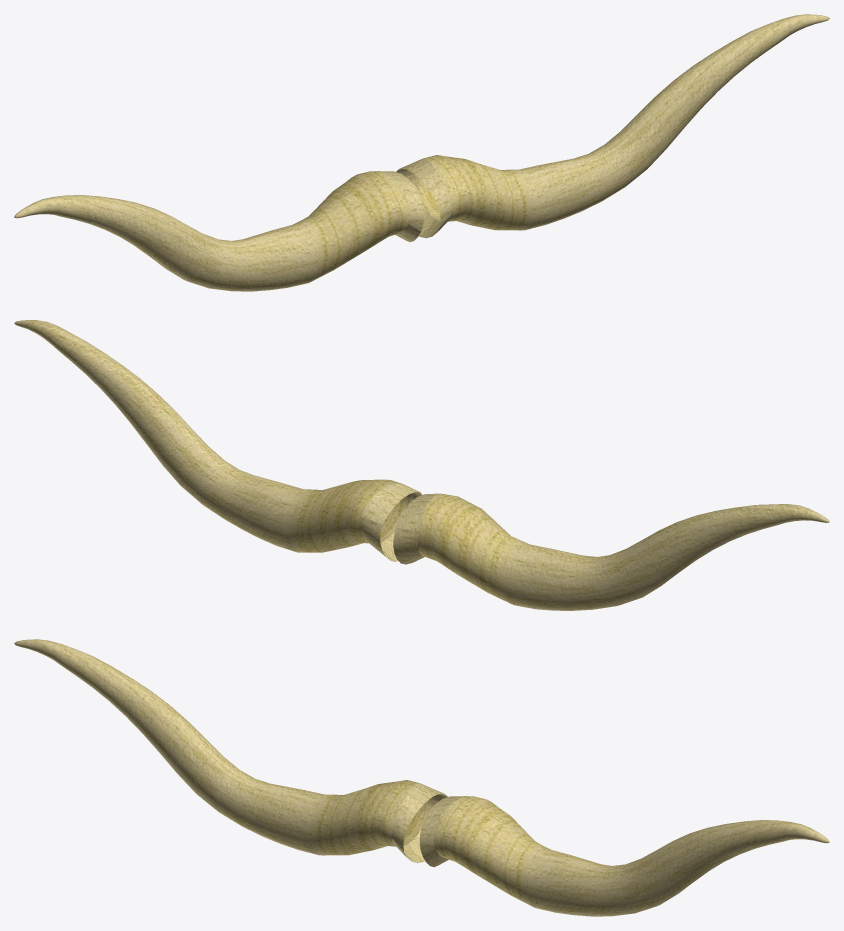
The model's file is longhorns-lite.glb.
3 views of the same model, one above another, from view 1: azimuth 30°, elevation 25°; view 2: azimuth 150°, elevation 25°; view 3: azimuth 330°, elevation 25° (orthographic).
Visible parts, largest first — view 1: longhorns; view 2: longhorns; view 3: longhorns.
Part boxes in pixels (<box>): longhorns: <box>14,14,829,291</box>; longhorns: <box>14,320,829,610</box>; longhorns: <box>14,639,829,916</box>.
Size of the model in its own units: 1.03 by 0.1872 by 0.0993.
1 material, 1 textured.
